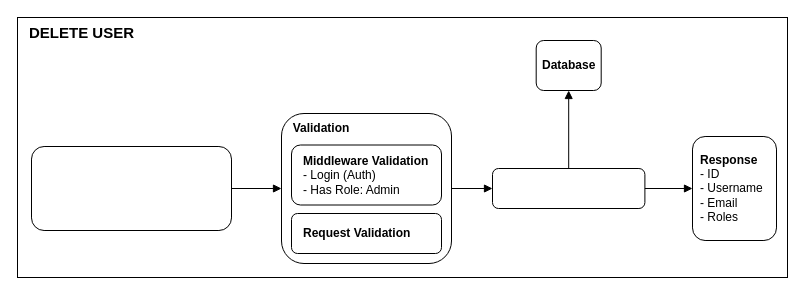
The diagram is 805 pixels wide and 295 high, and some of its shapes have lost their labels. Here are the shapes that lost their labels. From the top down, the centre of each, then its label:
At pixel 131 188: "Request - User ID Header - Authorization: Bearer (token)".
At pixel 568 188: "Delete User Delete User by User ID".
